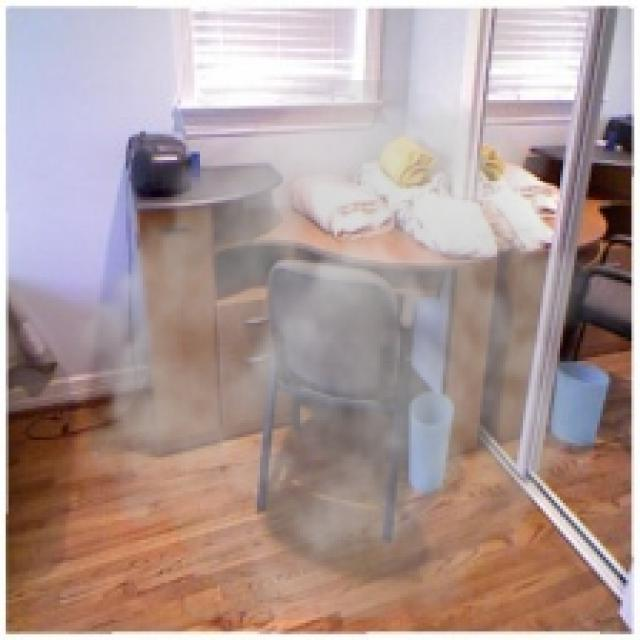smoke: (57, 80, 614, 620)
